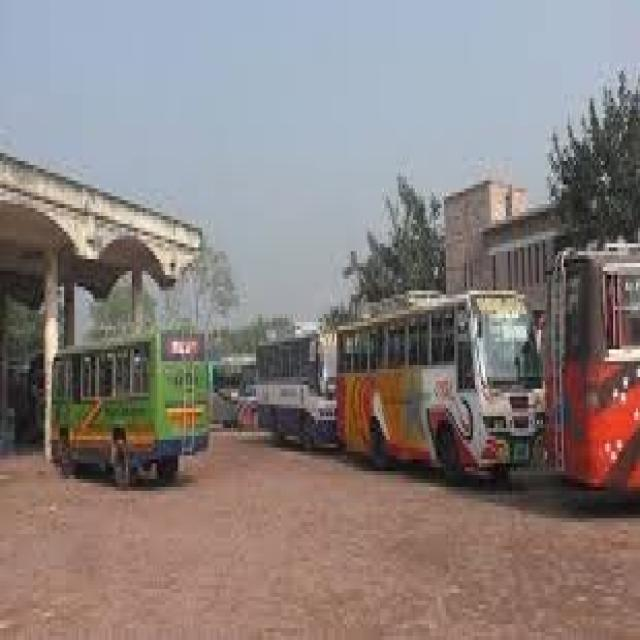bus: (337, 278, 548, 494), (46, 317, 210, 493), (549, 215, 640, 526), (244, 309, 340, 451)
